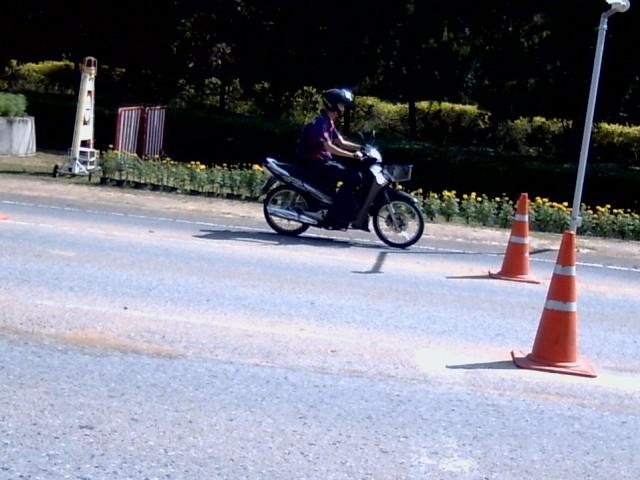helmet: (321, 88, 353, 115)
motor: (259, 145, 424, 247)
person: (297, 88, 361, 222)
